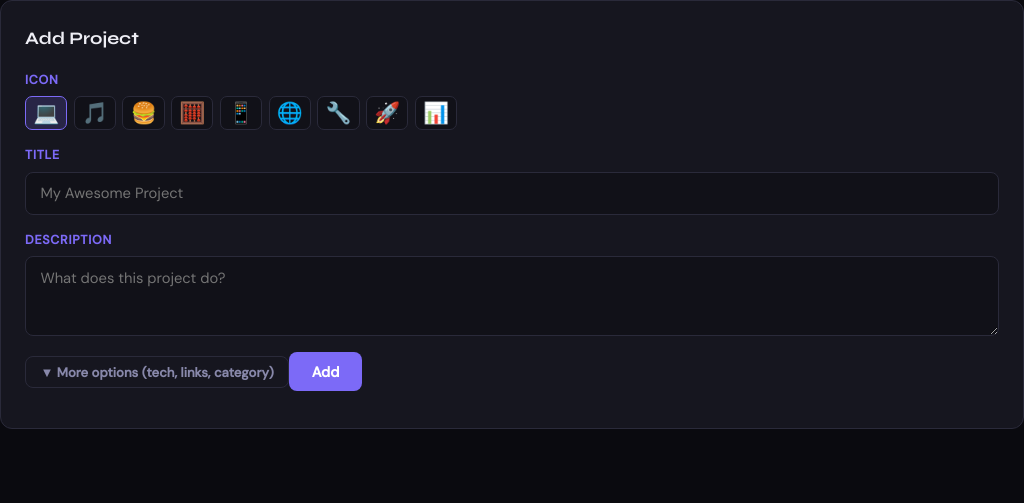
Test: AddProjectForm › shows validation errors when submitted empty
What coordinates should you click on to do the following:
click the button "Add"
I would click on:
 (326, 372)
Its box is [289, 352, 362, 391].
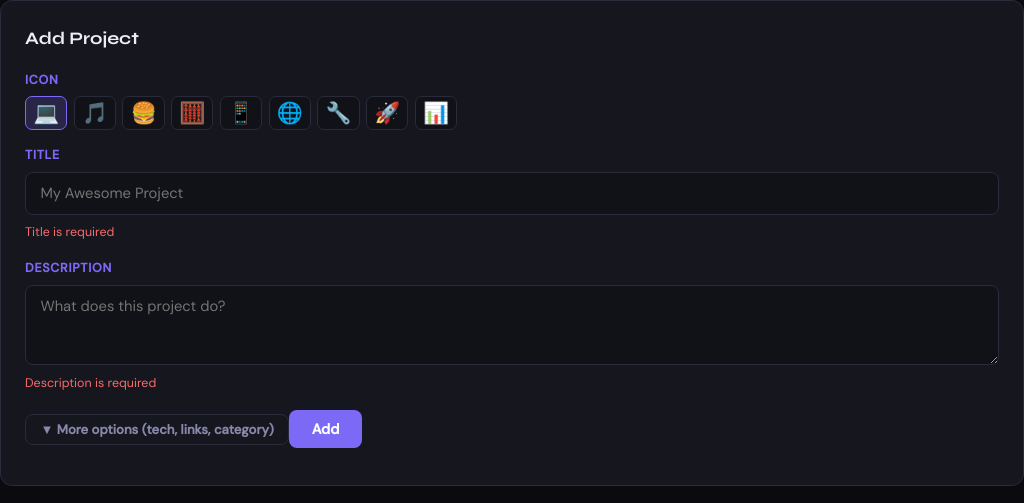
expect the text "Title is required" is shown: met, box [25, 224, 114, 240]
expect the text "Description is required" is shown: met, box [25, 375, 156, 391]
